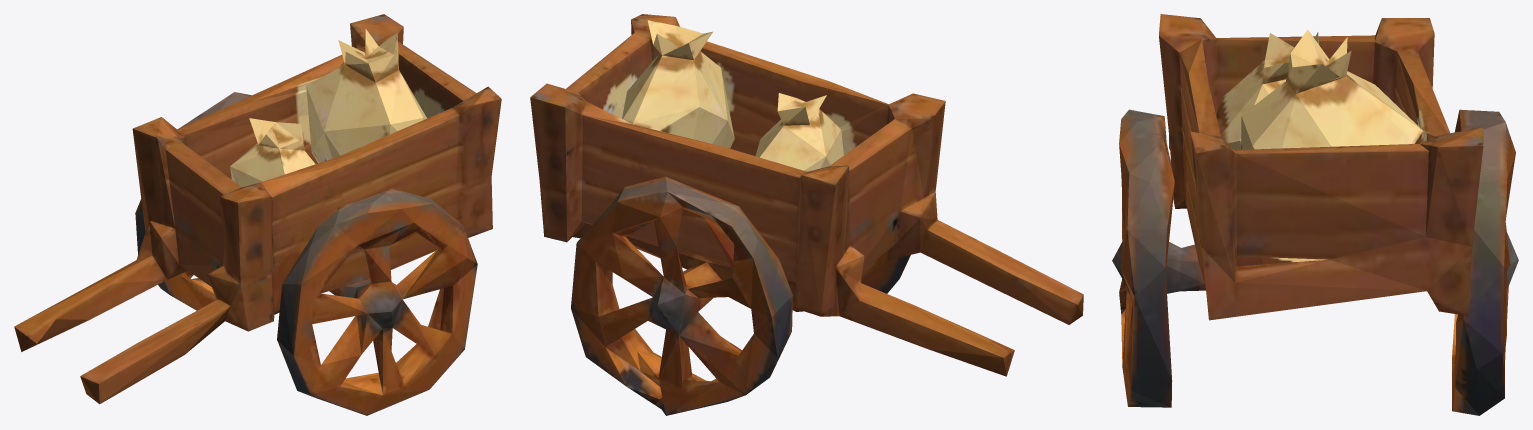
File: cart.glb
3 views of the same model, side by side, from view 1: azimuth 30°, elevation 25°; view 2: azimuth 150°, elevation 25°; view 3: azimuth 270°, elevation 25° (orthographic). The views are drawn at different scales.
Parts seen in each view (by area): view 1: cart; view 2: cart; view 3: cart.
Part boxes in pixels (x1,y1,x2,y2): cart: (14, 14, 501, 415); cart: (530, 14, 1083, 415); cart: (1112, 14, 1518, 415).
Size of the model in its own units: 3.01 by 2.12 by 1.98.
1 material, 1 textured.
